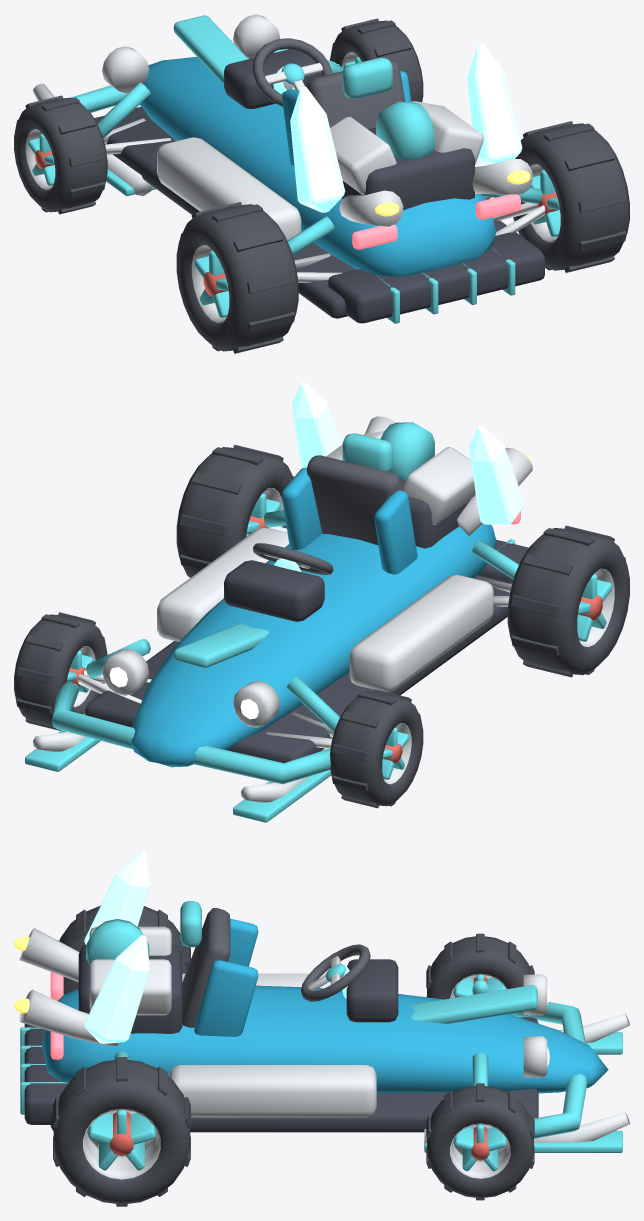
Rendered from lamina_glacial.glb.
3 views of the same model, one above another, from view 1: azimuth 30°, elevation 25°; view 2: azimuth 150°, elevation 25°; view 3: azimuth 270°, elevation 25° (orthographic). The views are drawn at different scales.
Visible parts, largest first — view 1: lamina-glacial_ChassisMesh, WheelRL_Mesh, WheelRR_Mesh, WheelFL_Mesh, WheelFR_Mesh, lamina-glacial_SteeringWheelMesh, ExhaustR_Mesh, ExhaustL_Mesh; view 2: lamina-glacial_ChassisMesh, WheelRL_Mesh, WheelRR_Mesh, WheelFL_Mesh, WheelFR_Mesh, ExhaustL_Mesh, lamina-glacial_SteeringWheelMesh; view 3: lamina-glacial_ChassisMesh, WheelRR_Mesh, WheelFR_Mesh, WheelFL_Mesh, ExhaustR_Mesh, lamina-glacial_SteeringWheelMesh, ExhaustL_Mesh, WheelRL_Mesh.
Part boxes in pixels (x1,y1,x2,y2): lamina-glacial_ChassisMesh: [33, 14, 545, 323]; WheelRL_Mesh: [176, 202, 298, 353]; WheelRR_Mesh: [513, 121, 629, 272]; WheelFL_Mesh: [14, 95, 107, 214]; WheelFR_Mesh: [330, 18, 423, 102]; lamina-glacial_SteeringWheelMesh: [253, 38, 332, 106]; ExhaustR_Mesh: [472, 159, 532, 194]; ExhaustL_Mesh: [339, 190, 403, 226]; lamina-glacial_ChassisMesh: [25, 382, 528, 822]; WheelRL_Mesh: [507, 525, 629, 677]; WheelRR_Mesh: [176, 445, 293, 577]; WheelFL_Mesh: [330, 689, 423, 808]; WheelFR_Mesh: [14, 612, 107, 730]; ExhaustL_Mesh: [457, 447, 532, 535]; lamina-glacial_SteeringWheelMesh: [253, 543, 333, 574]; lamina-glacial_ChassisMesh: [20, 851, 629, 1152]; WheelRR_Mesh: [53, 1057, 190, 1206]; WheelFR_Mesh: [426, 1083, 534, 1200]; WheelFL_Mesh: [426, 933, 534, 1017]; ExhaustR_Mesh: [14, 989, 118, 1045]; lamina-glacial_SteeringWheelMesh: [301, 944, 370, 1001]; ExhaustL_Mesh: [14, 928, 79, 982]; WheelRL_Mesh: [57, 905, 190, 994].
Size of the model in its own units: 2.04 by 1.14 by 2.85.
